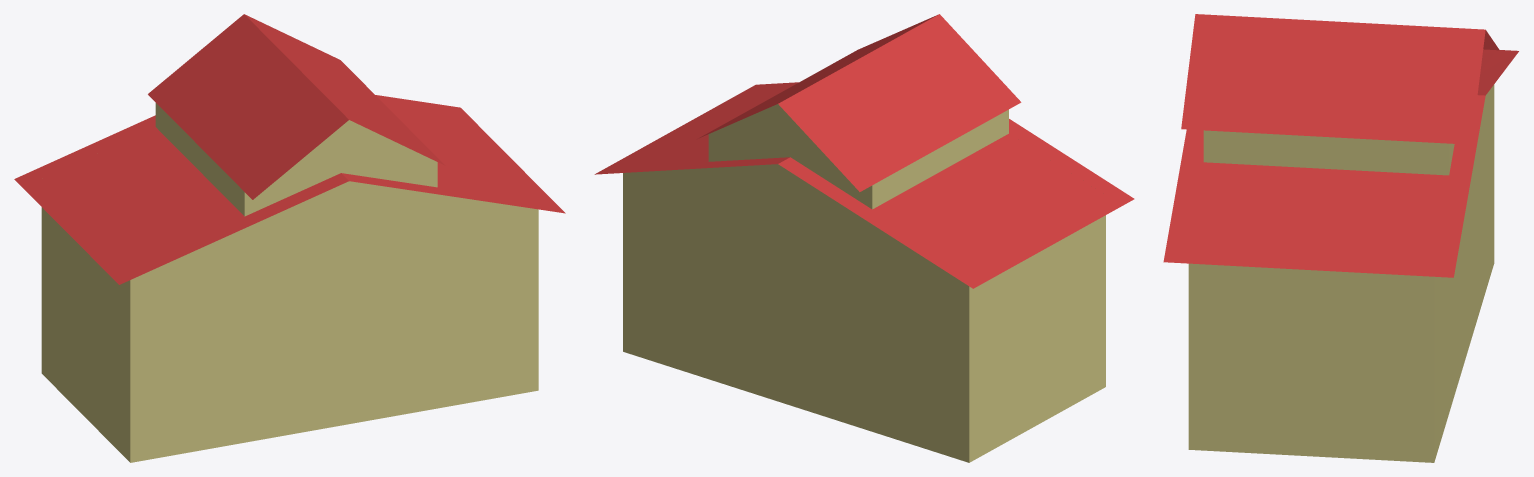
3 renders of one model, left to right at view 1: azimuth 30°, elevation 25°; view 2: azimuth 150°, elevation 25°; view 3: azimuth 270°, elevation 25°, orthographic. The views are drawn at different scales.
Size of the model in its own units: 12.31 by 7.91 by 8.28.
